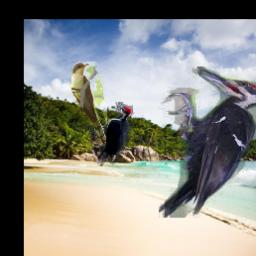Cuckoo: (71, 62, 107, 146)
Woodpecker: (159, 67, 256, 218), (89, 102, 133, 166)
